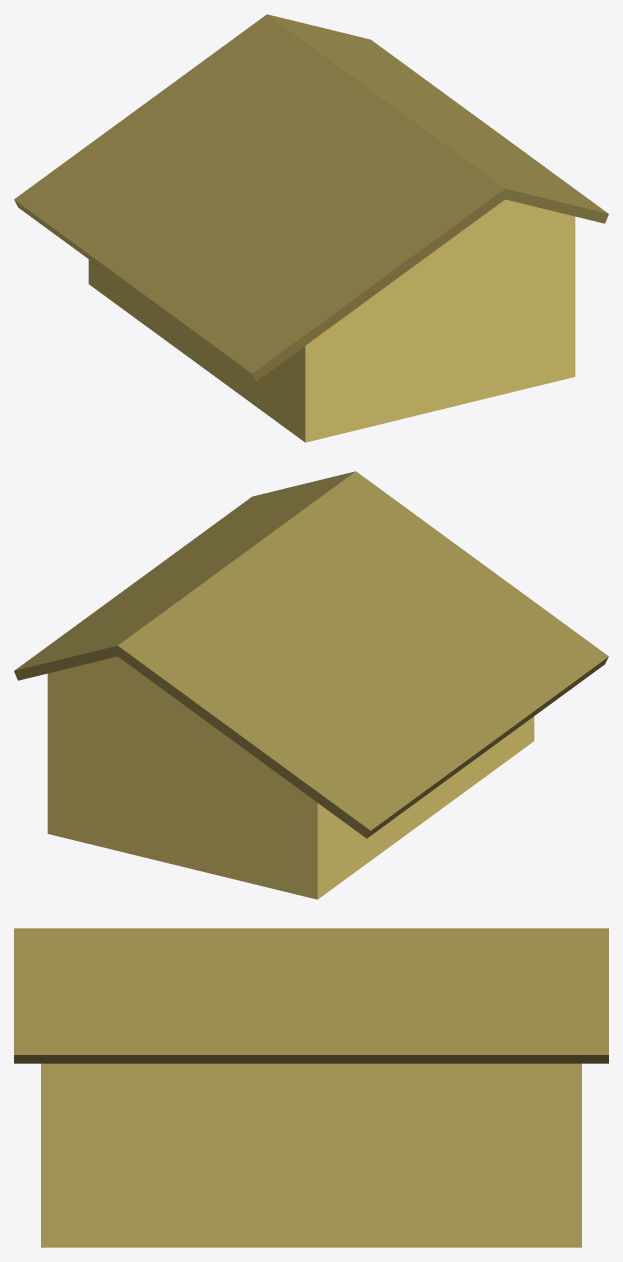
File: result.glb
3 renders of one model, top to bottom at view 1: azimuth 30°, elevation 25°; view 2: azimuth 150°, elevation 25°; view 3: azimuth 270°, elevation 25°, orthographic. The views are drawn at different scales.
Visible parts, largest first — view 1: 2b05d967-b4d1-4b26-852a-0913862edac4__undefined (×2), 5e530856-65fc-4760-a2ef-ec1410d12104__undefined; view 2: 2b05d967-b4d1-4b26-852a-0913862edac4__undefined (×2), 5e530856-65fc-4760-a2ef-ec1410d12104__undefined; view 3: 5e530856-65fc-4760-a2ef-ec1410d12104__undefined, 2b05d967-b4d1-4b26-852a-0913862edac4__undefined.
Boxes of the visible parts, box(x1,y1,x2,y2) form: 2b05d967-b4d1-4b26-852a-0913862edac4__undefined (×2): box(14, 14, 608, 381); 5e530856-65fc-4760-a2ef-ec1410d12104__undefined: box(88, 199, 575, 442); 2b05d967-b4d1-4b26-852a-0913862edac4__undefined (×2): box(14, 471, 608, 838); 5e530856-65fc-4760-a2ef-ec1410d12104__undefined: box(47, 656, 534, 899); 5e530856-65fc-4760-a2ef-ec1410d12104__undefined: box(41, 1063, 581, 1247); 2b05d967-b4d1-4b26-852a-0913862edac4__undefined: box(14, 928, 608, 1063).
Size of the model in its own units: 951 by 550 by 1100.
